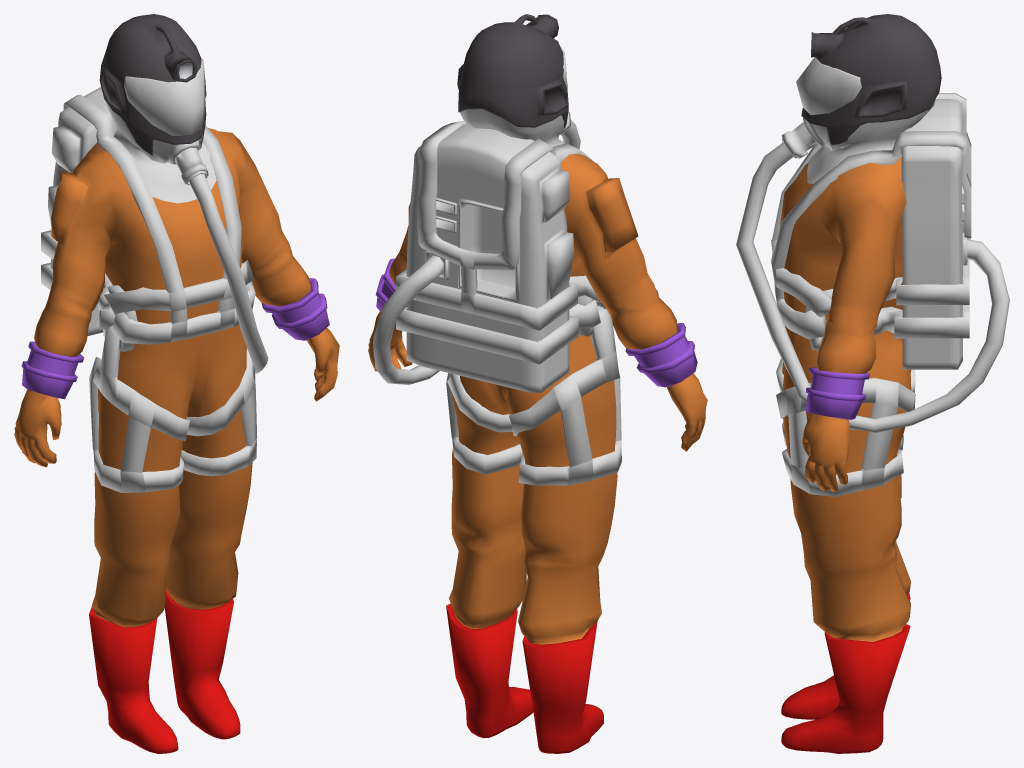
File: Nautt_LP.fbx
3 renders of one model, left to right at view 1: azimuth 30°, elevation 25°; view 2: azimuth 150°, elevation 25°; view 3: azimuth 270°, elevation 25°, orthographic. The views are drawn at different scales.
Parts seen in each view (by area): view 1: Suit.006, Straps.005, Helmet_Top.006, Helmet_Bottom.005, Visor.006, Breathing_Tube.005, Backpack.005; view 2: Suit.006, Straps.005, Backpack.005, Helmet_Top.006, Breathing_Tube.005, Helmet_Bottom.005; view 3: Suit.006, Straps.005, Backpack.005, Helmet_Top.006, Breathing_Tube.005, Helmet_Bottom.005, Visor.006.
Boxes of the visible parts, left/top/right/bottom form: Suit.006: left=14, top=128, right=339, bottom=753; Straps.005: left=41, top=94, right=257, bottom=492; Helmet_Top.006: left=99, top=14, right=206, bottom=155; Helmet_Bottom.005: left=106, top=102, right=216, bottom=203; Visor.006: left=124, top=58, right=205, bottom=135; Breathing_Tube.005: left=189, top=174, right=268, bottom=373; Backpack.005: left=48, top=87, right=116, bottom=336; Suit.006: left=368, top=154, right=707, bottom=753; Straps.005: left=396, top=120, right=621, bottom=485; Backpack.005: left=406, top=124, right=573, bottom=392; Helmet_Top.006: left=457, top=14, right=568, bottom=128; Breathing_Tube.005: left=373, top=120, right=580, bottom=384; Helmet_Bottom.005: left=459, top=109, right=570, bottom=147; Suit.006: left=780, top=156, right=911, bottom=753; Straps.005: left=771, top=93, right=971, bottom=496; Backpack.005: left=901, top=99, right=967, bottom=369; Helmet_Top.006: left=801, top=14, right=941, bottom=145; Breathing_Tube.005: left=736, top=142, right=1009, bottom=432; Helmet_Bottom.005: left=781, top=99, right=935, bottom=183; Visor.006: left=796, top=57, right=861, bottom=115.
Size of the model in its own units: 84.03 by 176 by 61.34.
